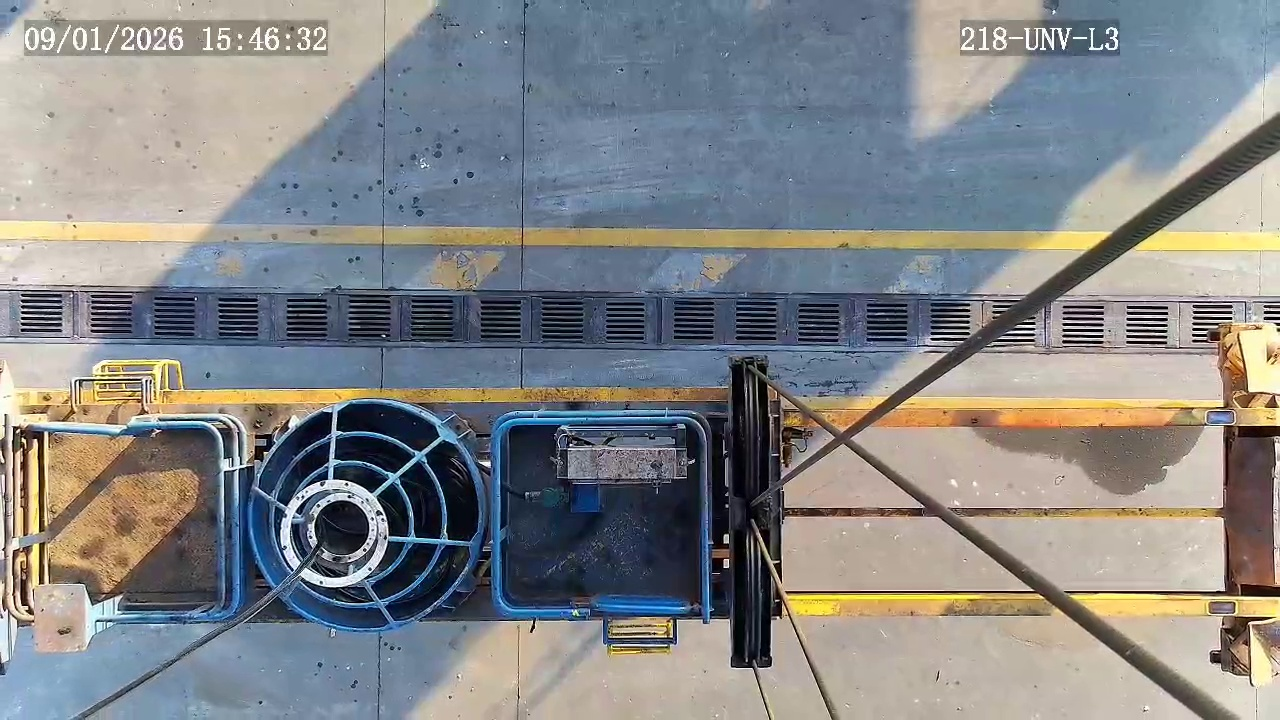right: (248, 398, 483, 632)
